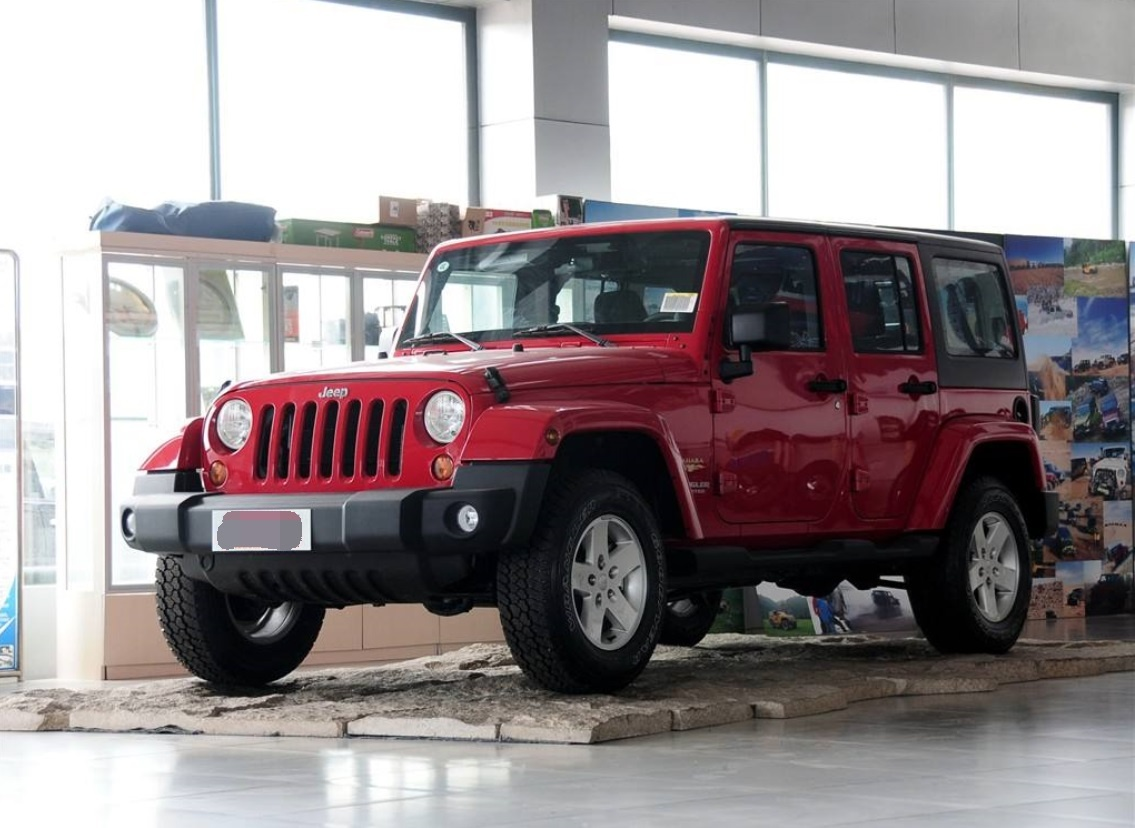jeep: (152, 214, 1048, 667)
